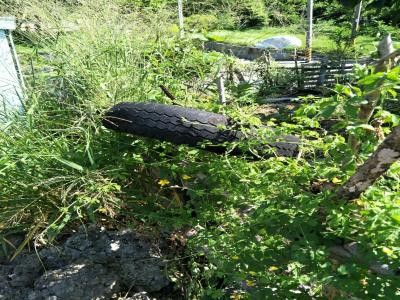tire: (101, 100, 300, 164)
